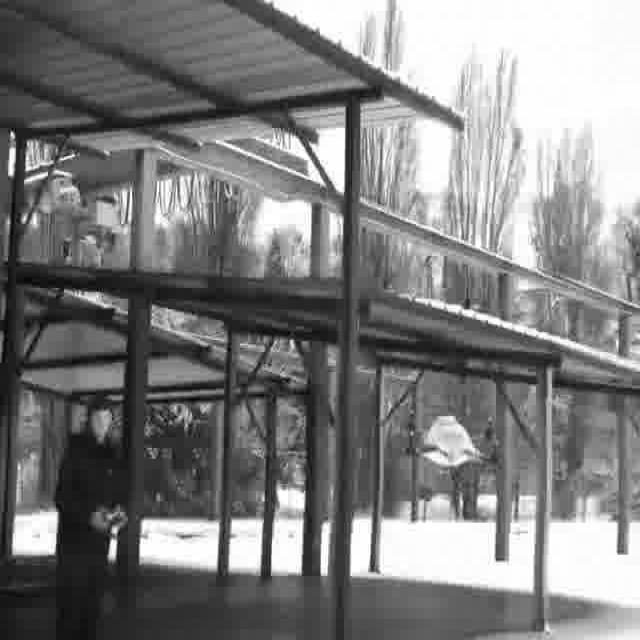drone: (387, 406, 503, 476)
